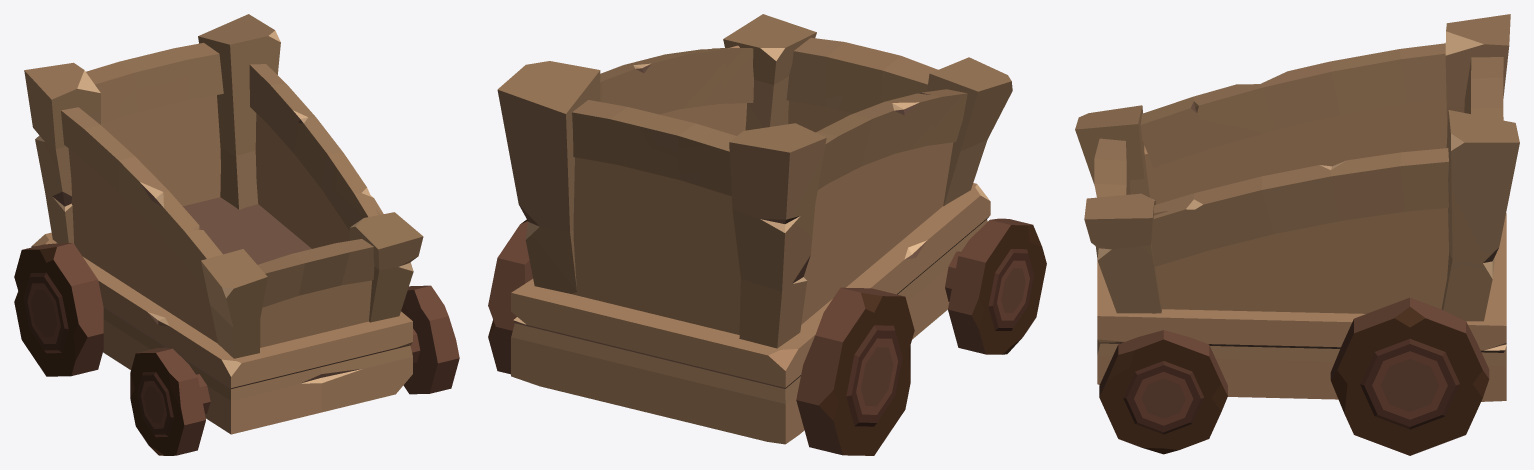
Rendered from Cart_01.glb.
The picture shows the model from 3 angles, left to right: view 1: azimuth 30°, elevation 25°; view 2: azimuth 150°, elevation 25°; view 3: azimuth 270°, elevation 25°; orthographic projection. The views are drawn at different scales.
Visible parts, largest first — view 1: Cart_01; view 2: Cart_01; view 3: Cart_01.
Boxes of the visible parts, x1,y1,x2,y2 form: Cart_01: [14, 14, 459, 455]; Cart_01: [488, 14, 1046, 455]; Cart_01: [1075, 14, 1519, 455].
Size of what is drawn, in the model's own units: 1.08 by 0.9999 by 1.32.
Materials: 1 (1 with a texture image).
